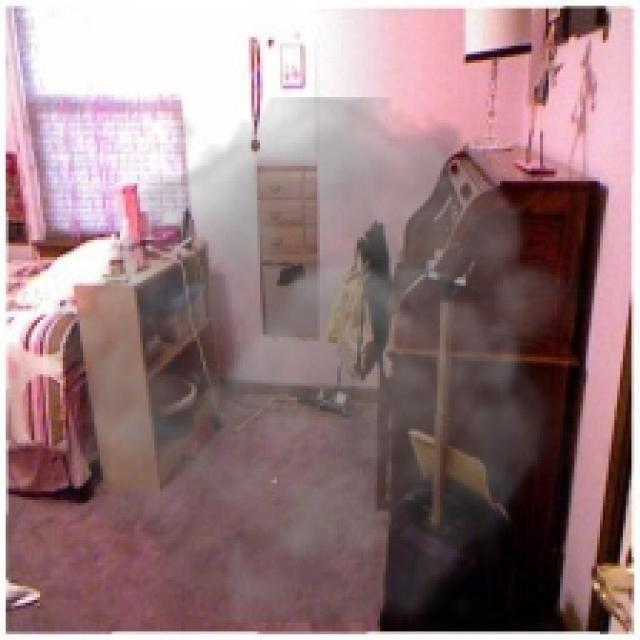Smoke: (34, 97, 589, 623)
